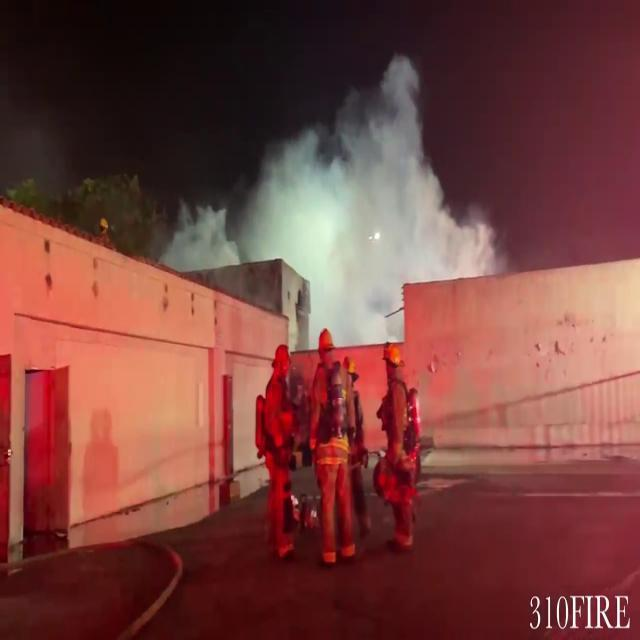Smoke: (256, 42, 510, 308)
